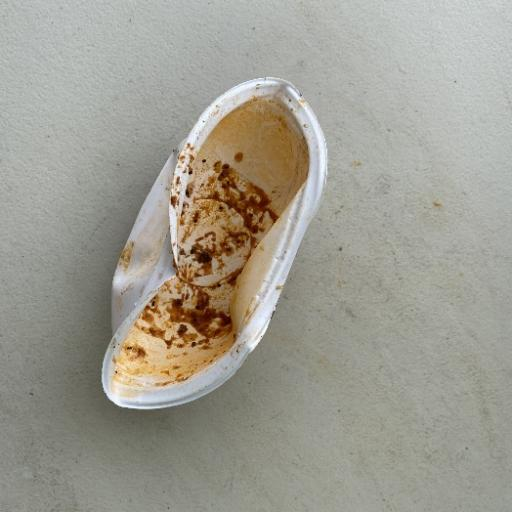Plastic: (100, 74, 329, 410)
